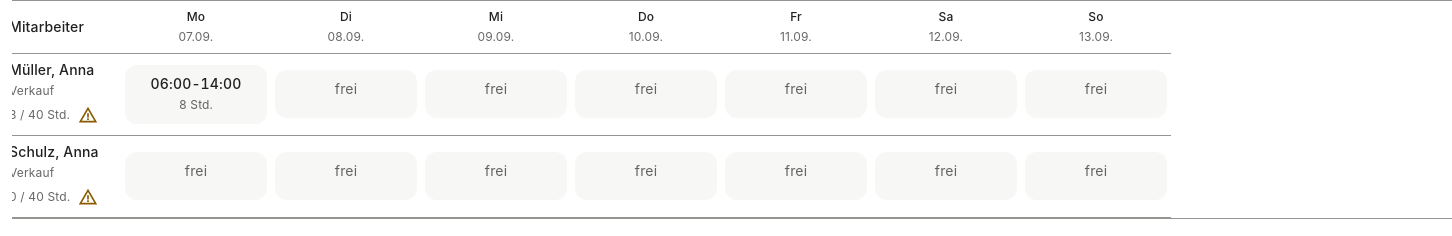
Test: ScheduleTable › closes an open Soll-deviation tooltip when clicking a different, unrelated cell (click-away)
Click the button named "Abweichung von Soll anzeigen" next to "8 / 40 Std.".
click(88, 115)  # box [66,93,110,137]
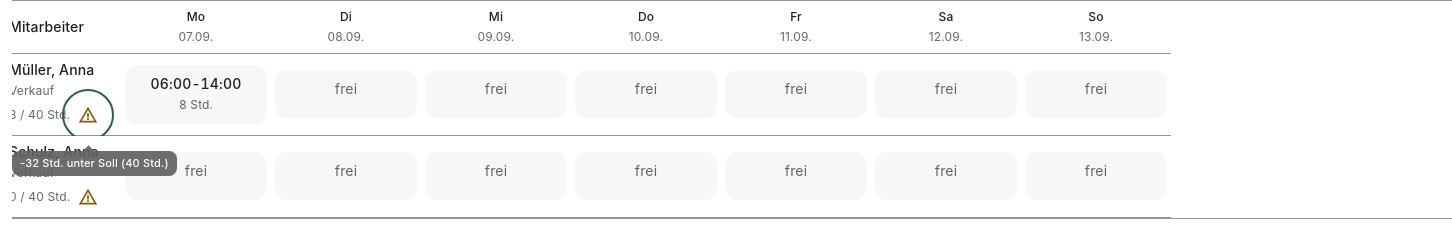
Check: the text "-32 Std. unter Soll (40 Std.)" is shown, box [12,151,177,176]
Click the button with aria-label "Schulz, Anna, Dienstag, frei bearbeiten".
click(346, 176)  # box [275,152,417,200]
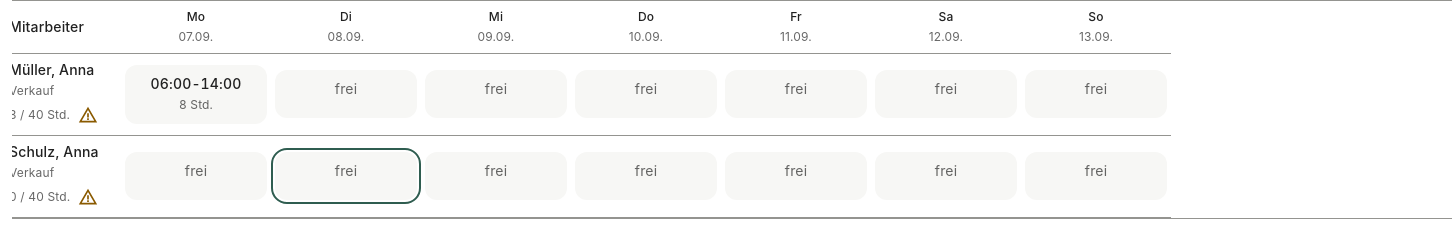
Check: the text "Std. unter Soll" is gone
